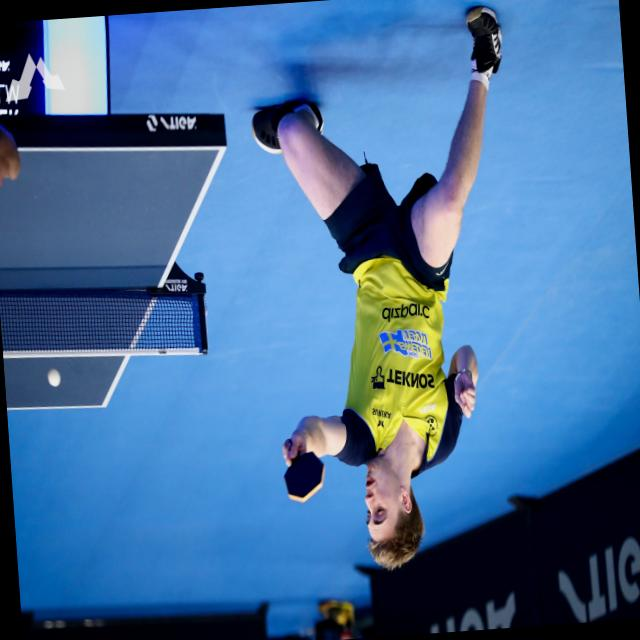TT Net: (0, 285, 207, 356)
TT Racket: (280, 424, 327, 503)
TT Table: (0, 144, 228, 408)
